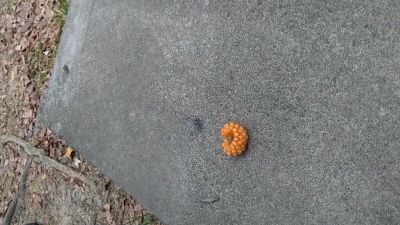eggs: (219, 121, 250, 159)
